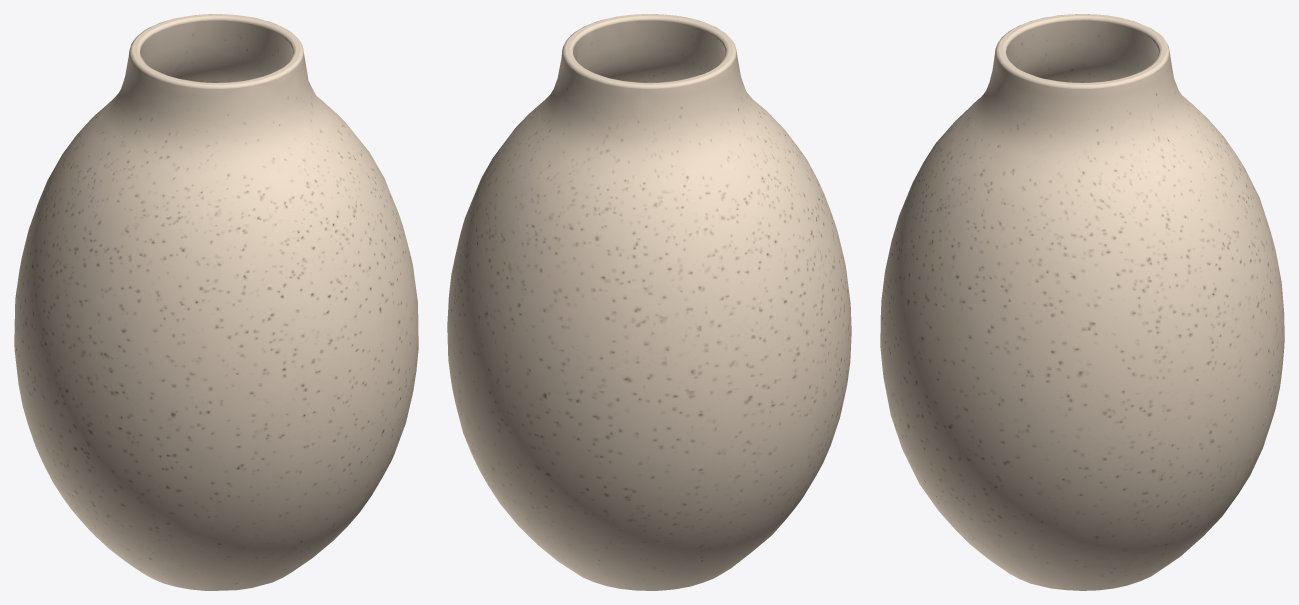
File: LB-VASE-03.glb
3 views of the same model, side by side, from view 1: azimuth 30°, elevation 25°; view 2: azimuth 150°, elevation 25°; view 3: azimuth 270°, elevation 25° (orthographic).
Parts seen in each view (by area): view 1: ASY_ART_90637727_S01_NV01; view 2: ASY_ART_90637727_S01_NV01; view 3: ASY_ART_90637727_S01_NV01.
Part boxes in pixels (<box>): ASY_ART_90637727_S01_NV01: <box>14,14,418,590</box>; ASY_ART_90637727_S01_NV01: <box>447,14,851,590</box>; ASY_ART_90637727_S01_NV01: <box>880,14,1284,590</box>.
Size of the model in its own units: 0.1834 by 0.253 by 0.1834.
Materials: 2 (2 with a texture image).
